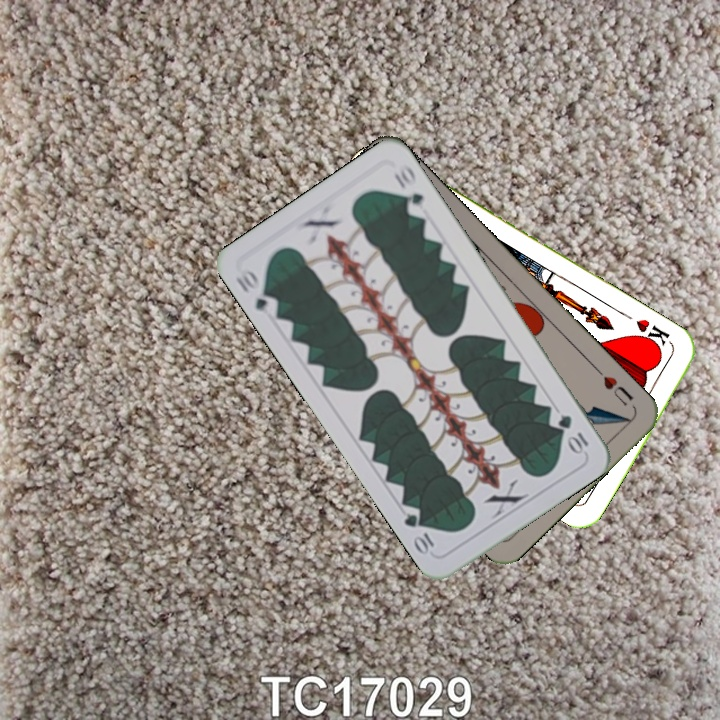G10: (231, 266, 281, 314), (554, 410, 591, 457)
HK: (631, 314, 673, 354)
HU: (591, 364, 637, 409)
